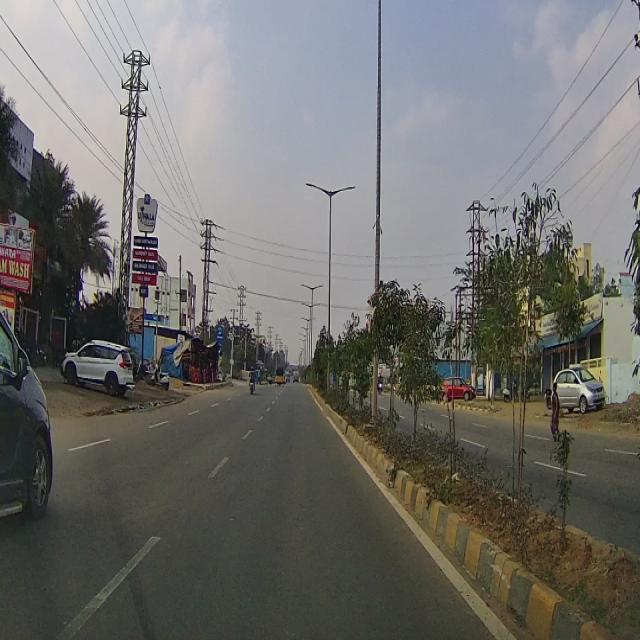barrier ahead at: (128, 187, 160, 388)
car ahead at: (0, 307, 53, 529), (60, 334, 134, 405)
